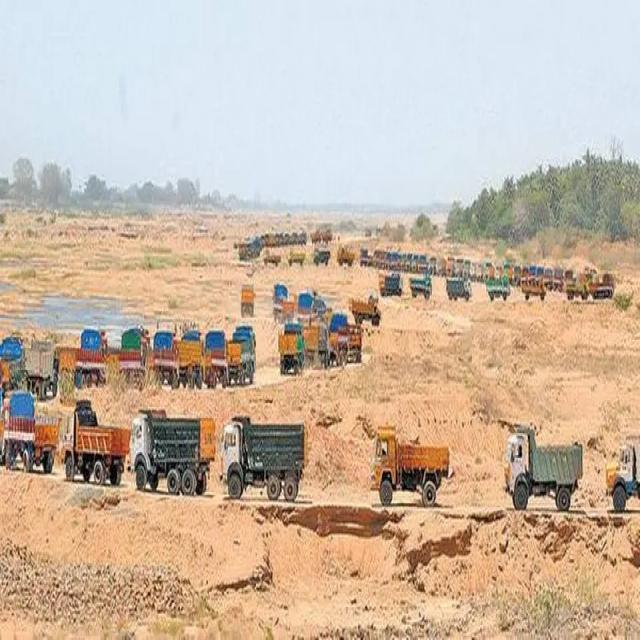uncovered: (65, 325, 208, 393), (136, 404, 213, 494), (510, 424, 588, 512), (226, 422, 314, 499), (373, 431, 451, 515), (3, 387, 63, 477), (70, 411, 127, 492), (57, 327, 105, 390), (228, 334, 260, 381)
